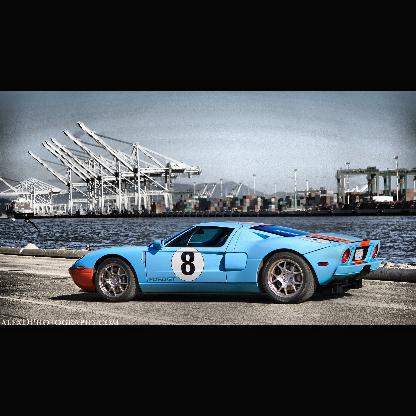Ford GT Coupe 2006: (68, 221, 383, 307)
